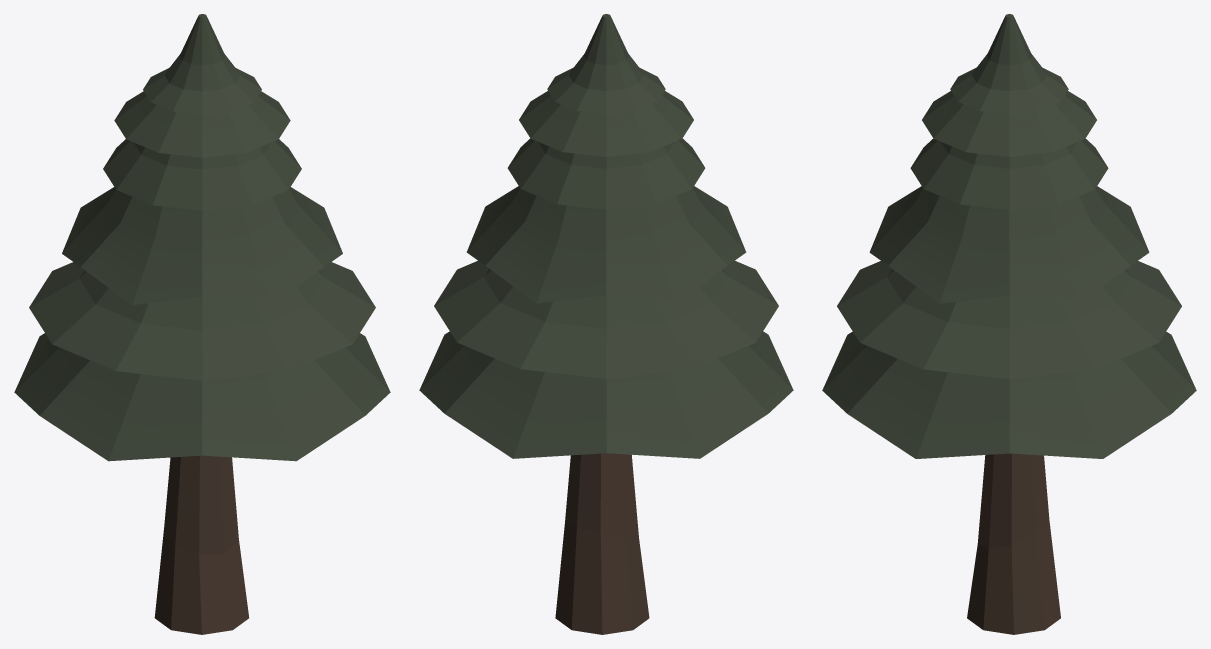
File: tree_pine1.fbx
3 views of the same model, side by side, from view 1: azimuth 30°, elevation 25°; view 2: azimuth 150°, elevation 25°; view 3: azimuth 270°, elevation 25° (orthographic).
Parts seen in each view (by area): view 1: pineleaves, treepine1; view 2: pineleaves, treepine1; view 3: pineleaves, treepine1.
Part boxes in pixels (x1=…): pineleaves: x1=14, y1=14, x2=390, y2=461; treepine1: x1=154, y1=455, x2=249, y2=634; pineleaves: x1=419, y1=14, x2=793, y2=458; treepine1: x1=555, y1=453, x2=649, y2=634; pineleaves: x1=822, y1=14, x2=1196, y2=458; treepine1: x1=967, y1=453, x2=1060, y2=634.
Size of the model in its own units: 4.92 by 8.68 by 4.92.
